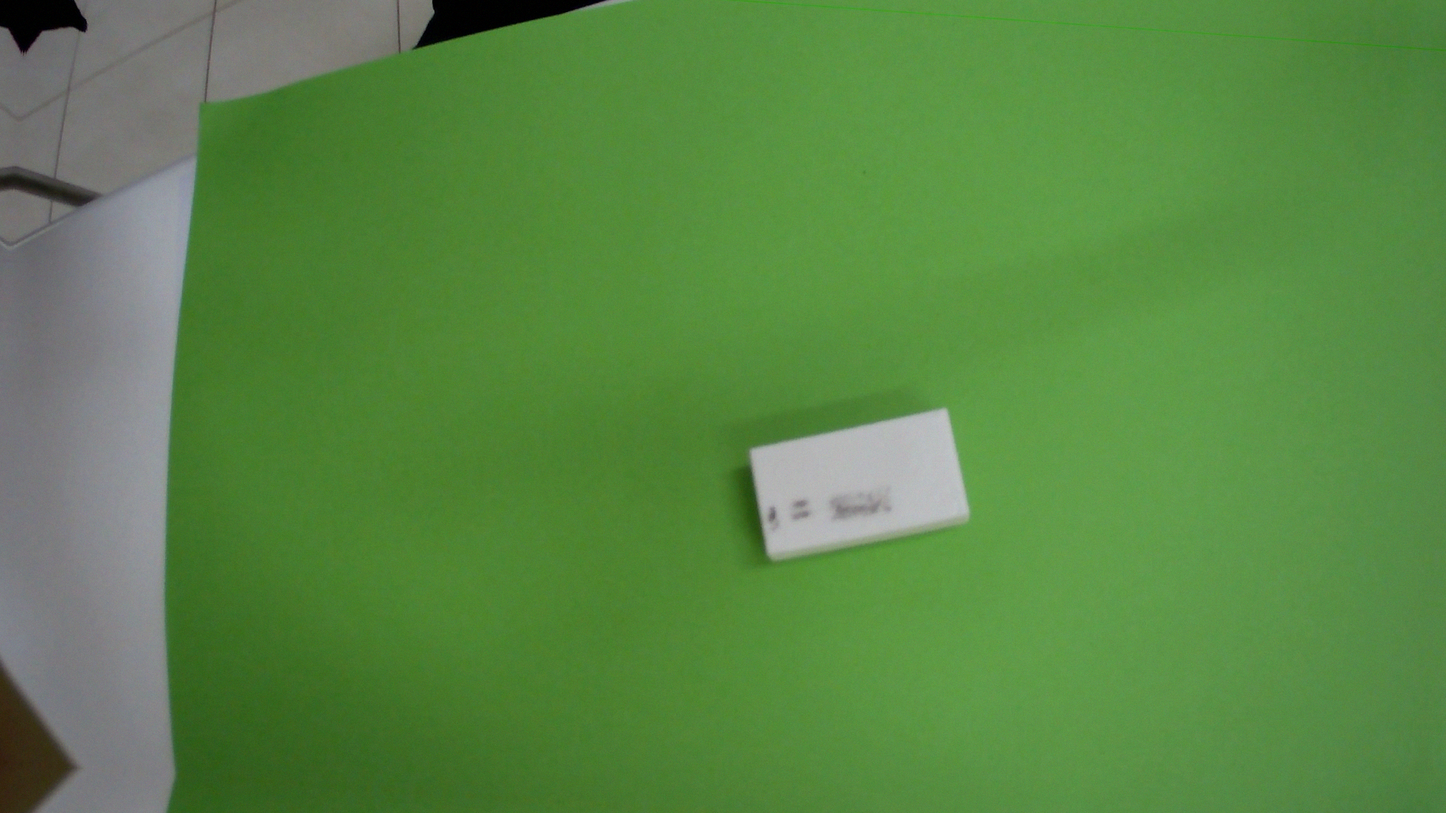gom: (728, 393, 978, 578)
